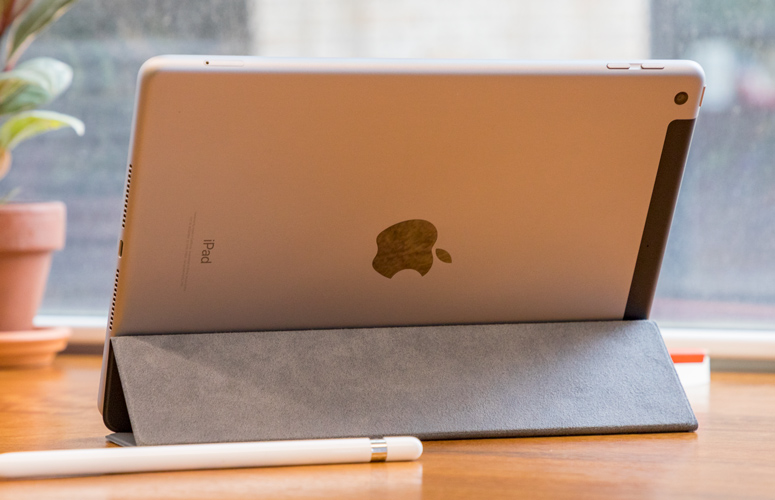apple: (365, 204, 473, 291)
